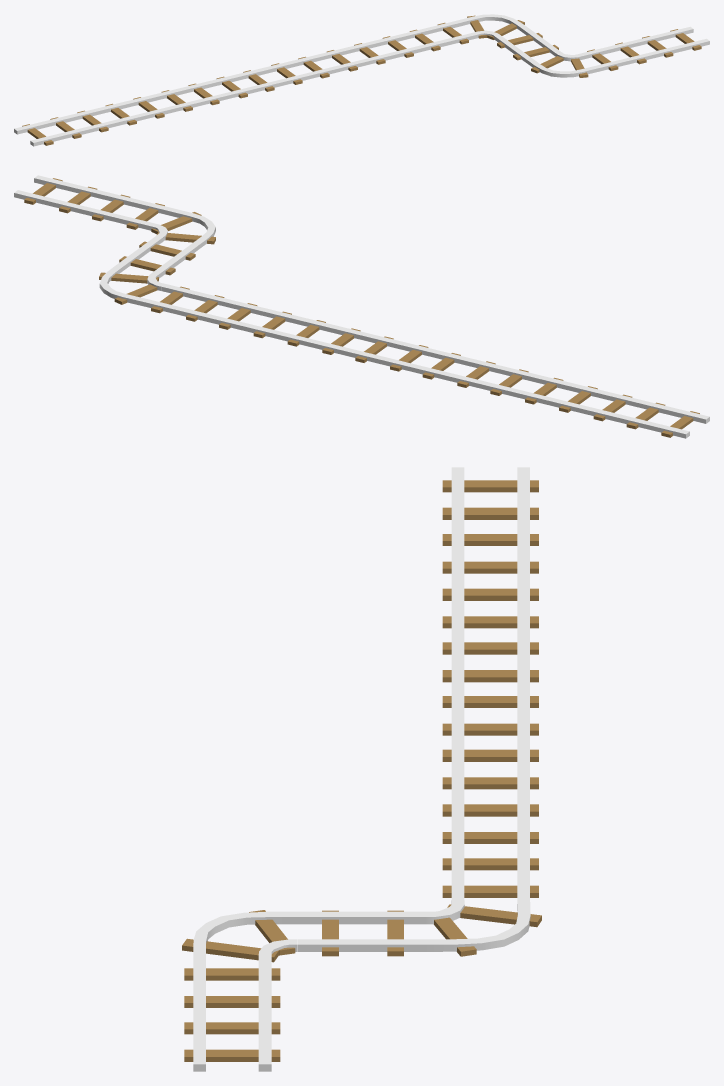
Rendered from rails.glb.
The picture shows the model from 3 angles, top to bottom: view 1: azimuth 30°, elevation 25°; view 2: azimuth 150°, elevation 25°; view 3: azimuth 270°, elevation 25°; orthographic projection. The views are drawn at different scales.
Visible parts, largest first — view 1: Rail_Straight, Rail_Straight.004, Rail_Straight.009, Rail_Straight.005, Rail_Straight.001, Rail_Straight.006, Rail_Straight.010, Rail_Straight.002, Rail_Straight.003, Rail_Straight.007, Rail_Straight.008, Rail_Corner.001 (+1 smaller); view 2: Rail_Straight, Rail_Straight.009, Rail_Straight.005, Rail_Straight.002, Rail_Straight.006, Rail_Straight.001, Rail_Straight.004, Rail_Straight.003, Rail_Straight.010, Rail_Straight.007, Rail_Straight.008, Rail_Corner (+1 smaller); view 3: Rail_Straight.008, Rail_Corner, Rail_Straight.009, Rail_Corner.001, Rail_Straight.005, Rail_Straight.006, Rail_Straight.003, Rail_Straight, Rail_Straight.002, Rail_Straight.001, Rail_Straight.010, Rail_Straight.004 (+1 smaller).
Part boxes in pixels (x1,y1,x2,y2): Rail_Straight: (14, 115, 89, 146); Rail_Straight.004: (346, 34, 422, 65); Rail_Straight.009: (634, 26, 709, 57); Rail_Straight.005: (401, 20, 477, 51); Rail_Straight.001: (69, 101, 145, 132); Rail_Straight.006: (290, 47, 366, 78); Rail_Straight.010: (579, 40, 654, 71); Rail_Straight.002: (180, 75, 256, 105); Rail_Straight.003: (125, 88, 199, 119); Rail_Straight.007: (235, 61, 310, 91); Rail_Straight.008: (494, 28, 560, 63); Rail_Corner.001: (527, 52, 598, 77); Rail_Straight: (616, 400, 709, 438); Rail_Straight.009: (14, 175, 106, 213); Rail_Straight.005: (141, 284, 233, 322); Rail_Straight.002: (412, 350, 505, 388); Rail_Straight.006: (278, 317, 370, 355); Rail_Straight.001: (549, 383, 641, 421); Rail_Straight.004: (210, 300, 301, 338); Rail_Straight.003: (481, 367, 572, 404); Rail_Straight.010: (82, 192, 174, 230); Rail_Straight.007: (346, 334, 438, 371); Rail_Straight.008: (117, 235, 198, 278); Rail_Corner: (99, 265, 164, 305); Rail_Straight.008: (298, 910, 428, 956); Rail_Corner: (426, 900, 541, 956); Rail_Straight.009: (184, 1009, 280, 1071); Rail_Corner.001: (182, 910, 297, 962); Rail_Straight.005: (442, 845, 538, 904); Rail_Straight.006: (442, 737, 538, 791); Rail_Straight.003: (442, 575, 538, 629); Rail_Straight: (442, 467, 538, 520); Rail_Straight.002: (442, 629, 538, 682); Rail_Straight.001: (442, 521, 538, 575); Rail_Straight.010: (184, 955, 280, 1009); Rail_Straight.004: (442, 791, 538, 845).
Bounding box in the file's own units: 21.66 × 0.1305 × 5.52.
Materials: 26 (13 with a texture image).
